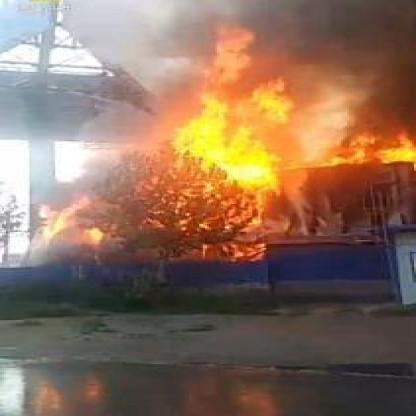fire: (45, 19, 395, 278)
other: (25, 356, 300, 413)
